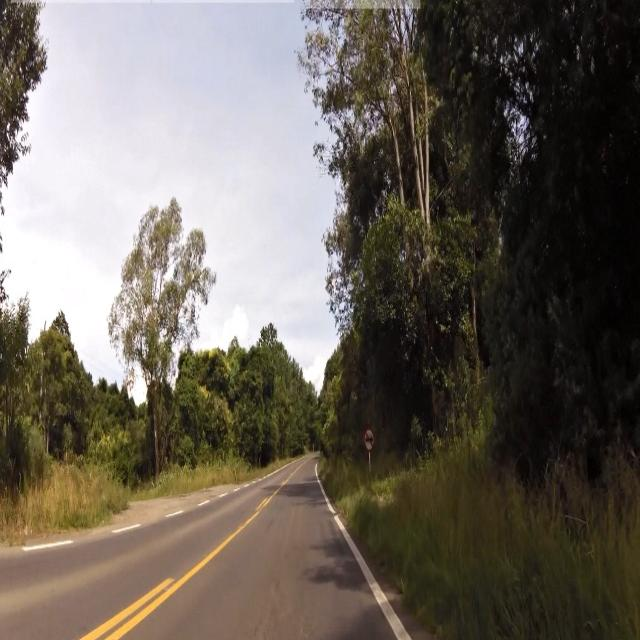R-7: (363, 420, 375, 455)
